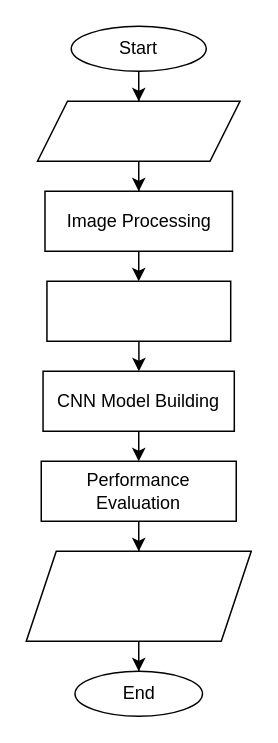
The diagram is 278 pixels wide and 743 high, and some of its shapes have lost their labels. Each missing label, with the box of its shape:
Classification Output: Pneumonia/Normal: (25, 550, 251, 641)
Dataset Splitting: (45, 280, 231, 341)
Read Dataset: (36, 100, 240, 161)
